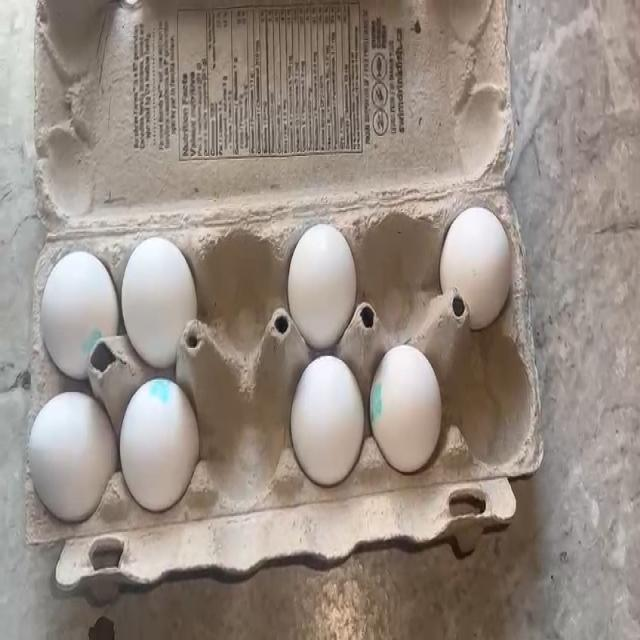Egg: (24, 396, 100, 527), (436, 200, 508, 314), (118, 389, 194, 496), (285, 215, 353, 334), (130, 236, 190, 359), (377, 362, 441, 465), (40, 260, 101, 364), (297, 372, 354, 474)
